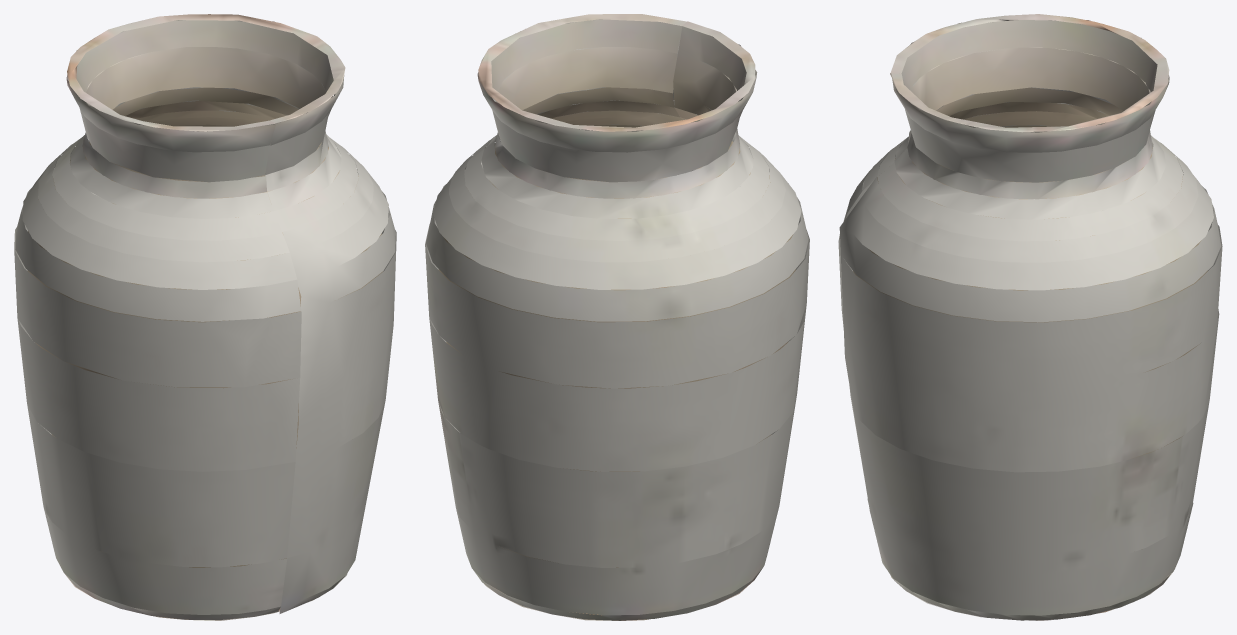
The model's file is vase_wide.glb.
The picture shows the model from 3 angles, left to right: view 1: azimuth 30°, elevation 25°; view 2: azimuth 150°, elevation 25°; view 3: azimuth 270°, elevation 25°; orthographic projection.
Visible parts, largest first — view 1: vase_wide; view 2: vase_wide; view 3: vase_wide.
Boxes of the visible parts, x1,y1,x2,y2 form: vase_wide: [14, 14, 396, 620]; vase_wide: [425, 14, 809, 620]; vase_wide: [838, 14, 1222, 620].
Size of the model in its own units: 0.2187 by 0.3097 by 0.219.
Materials: 1 (1 with a texture image).
